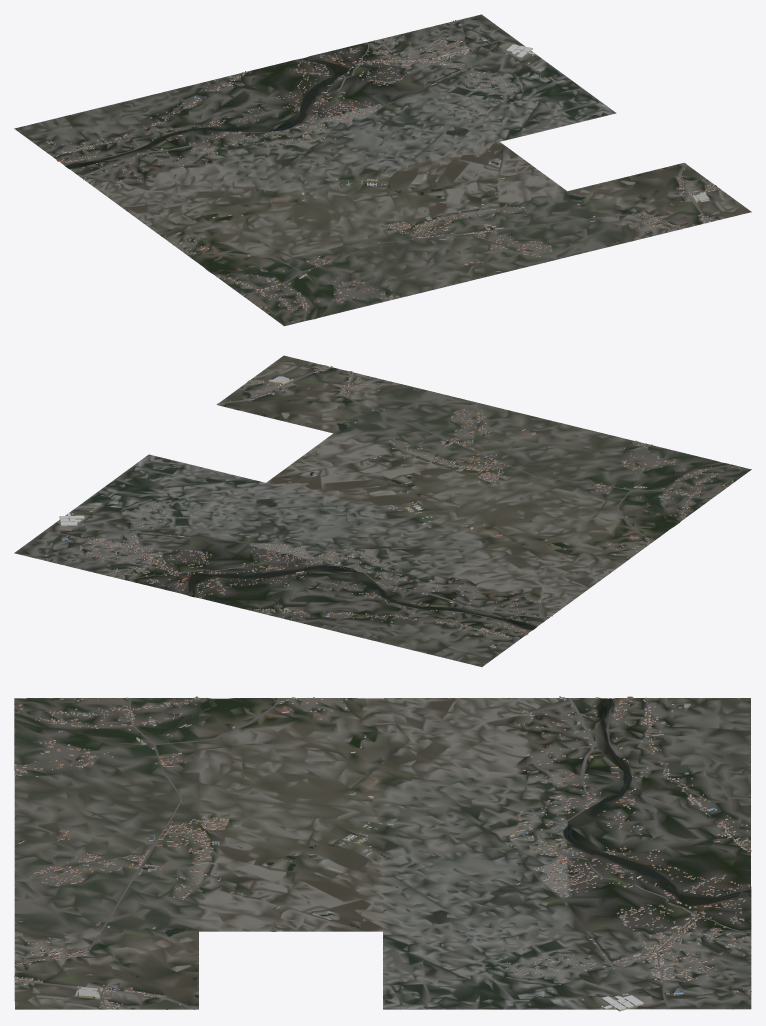
The picture shows the model from 3 angles, top to bottom: view 1: azimuth 30°, elevation 25°; view 2: azimuth 150°, elevation 25°; view 3: azimuth 270°, elevation 25°; orthographic projection. The views are drawn at different scales.
Parts seen in each view (by area): view 1: ground, buildings, roads, water; view 2: ground, buildings, roads, water; view 3: ground, buildings, roads, water.
Part boxes in pixels (x1,y1,x2,y2): ground: (14, 14, 751, 326); buildings: (46, 20, 718, 322); roads: (52, 36, 717, 321); water: (65, 43, 687, 318); ground: (14, 355, 751, 666); buildings: (37, 365, 739, 648); roads: (44, 366, 731, 639); water: (73, 373, 734, 629); ground: (14, 698, 751, 1009); buildings: (14, 696, 751, 1011); roads: (14, 698, 750, 1009); water: (15, 698, 750, 1007).
Bounding box in the file's own units: 5656 × 31.07 × 5619.
